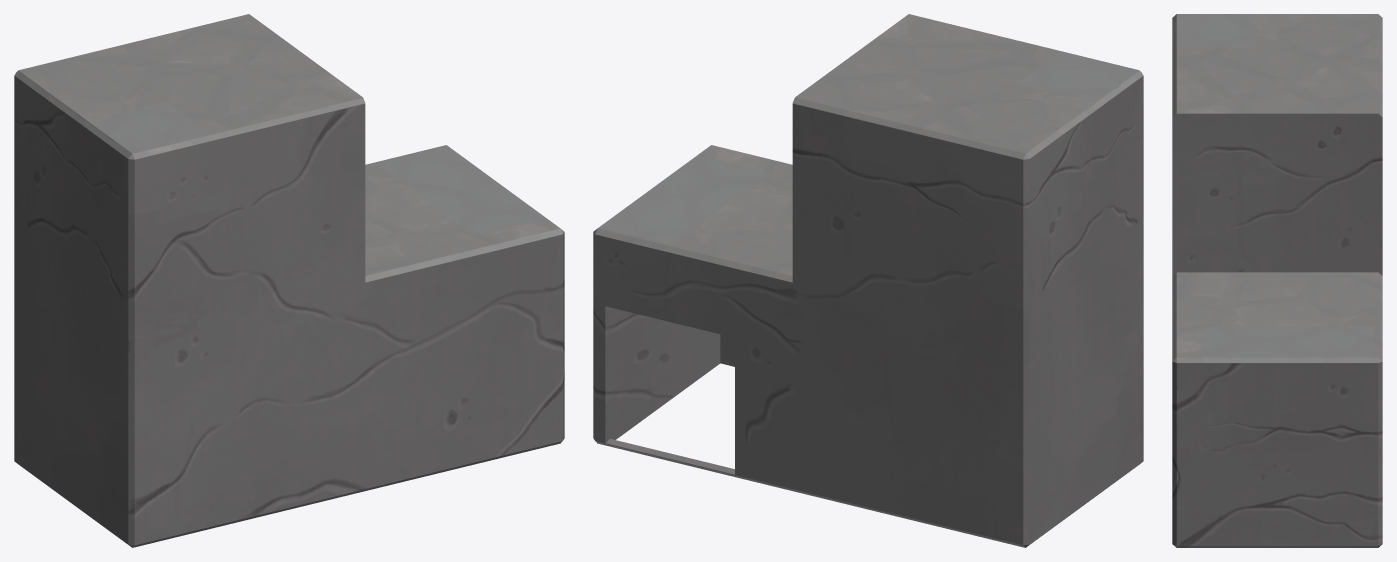
Rendered from platform3.fbx.
The picture shows the model from 3 angles, left to right: view 1: azimuth 30°, elevation 25°; view 2: azimuth 150°, elevation 25°; view 3: azimuth 270°, elevation 25°; orthographic projection. The views are drawn at different scales.
Visible parts, largest first — view 1: Cube.044; view 2: Cube.044; view 3: Cube.044.
Boxes of the visible parts, x1,y1,x2,y2 form: Cube.044: [14, 14, 564, 547]; Cube.044: [593, 14, 1143, 547]; Cube.044: [1172, 14, 1382, 547].
Size of the model in its own units: 7.69 by 6.64 by 3.63.
